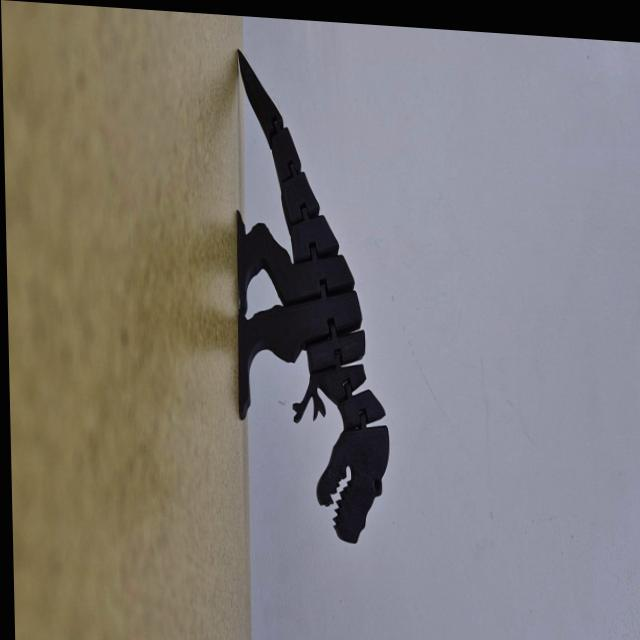dino: (228, 47, 393, 549)
